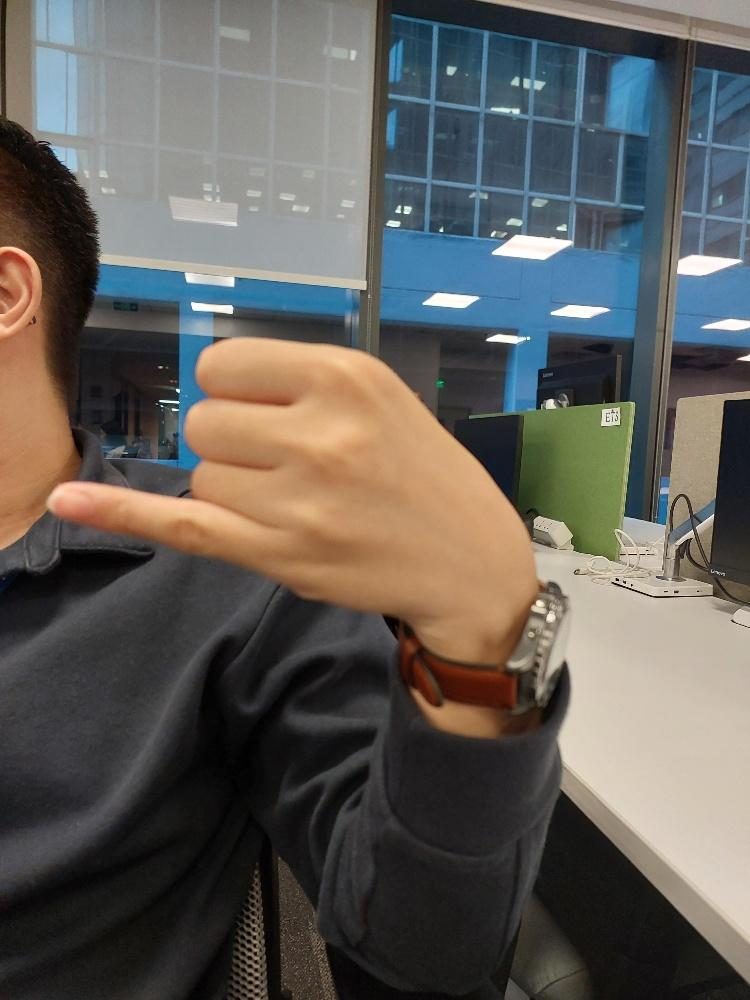j: (48, 337, 487, 614)
